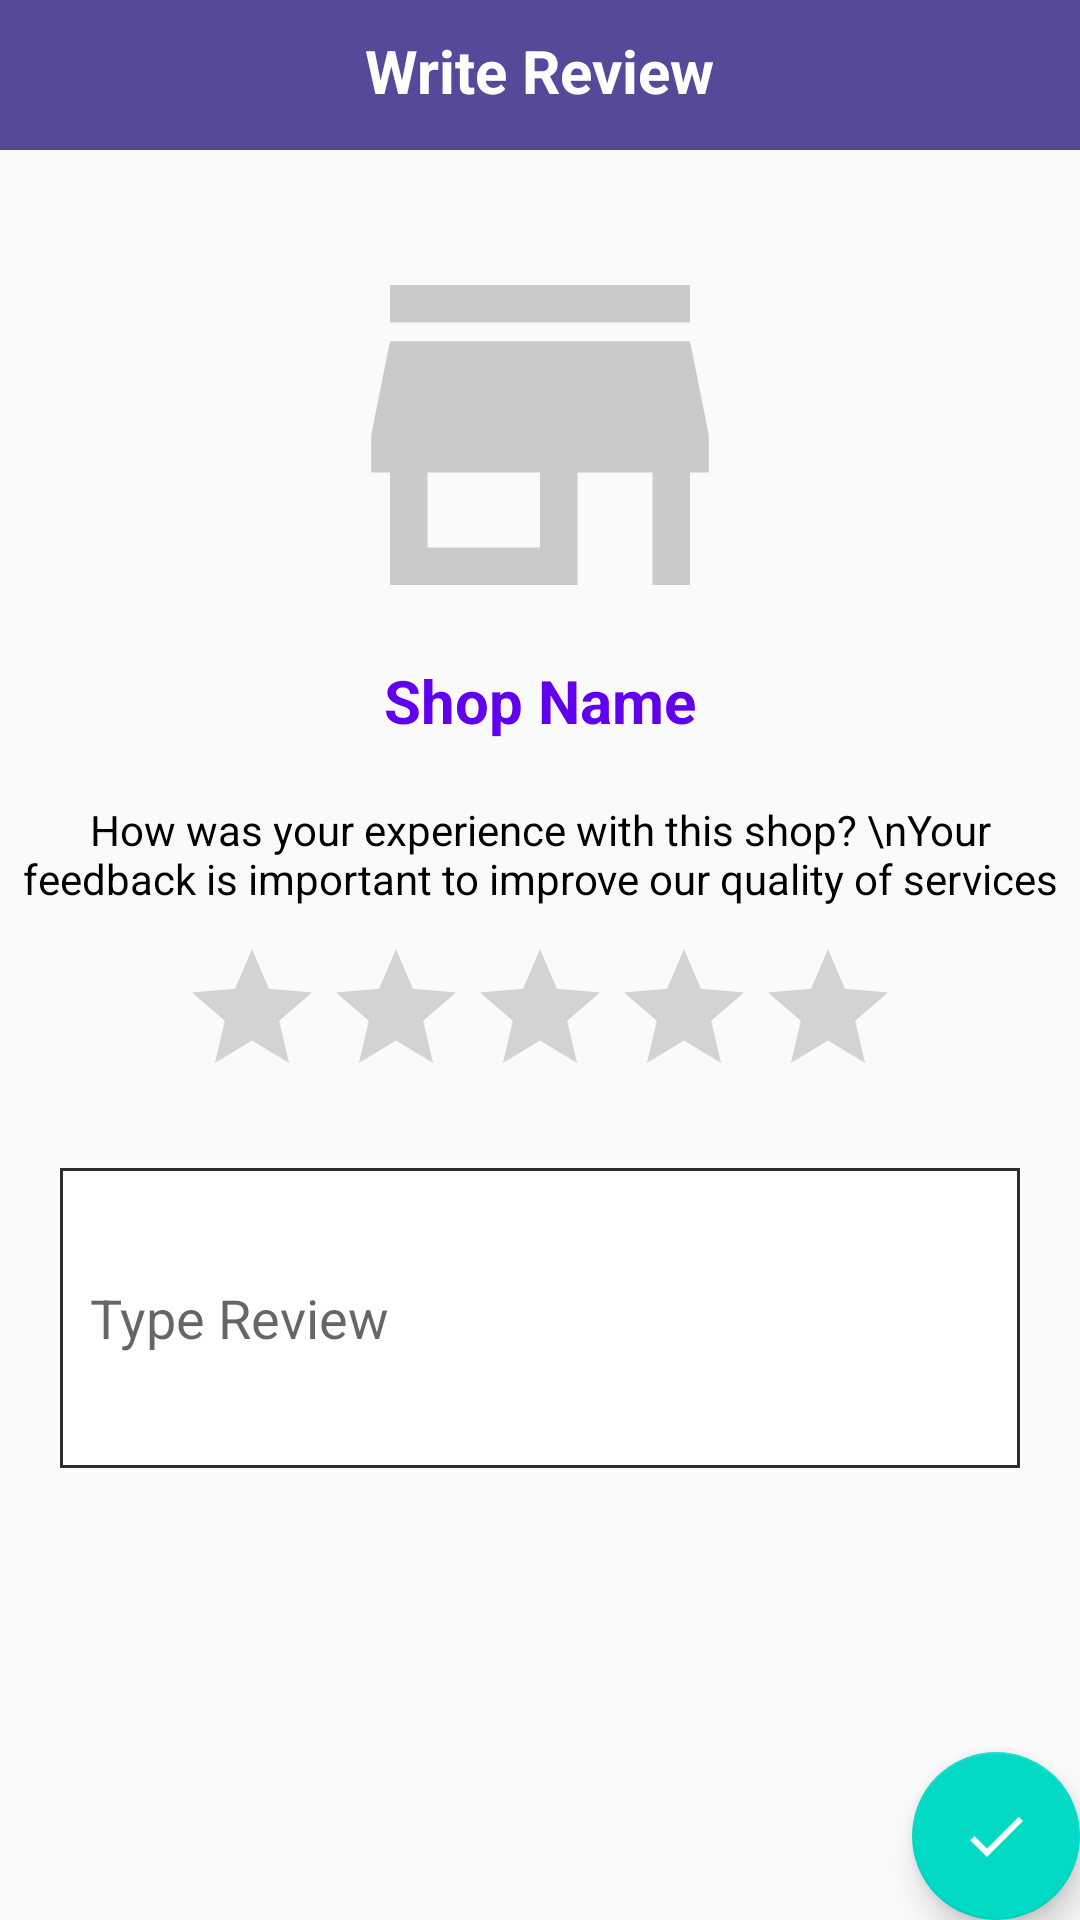

Icon bounding boxes for this 1080px×1920px phone screenshot, format (x1=x1, y1=y1, x2=x2, y2=y2):
done: (x1=912, y1=1752, x2=1080, y2=1920)
store: (x1=371, y1=285, x2=709, y2=585)
